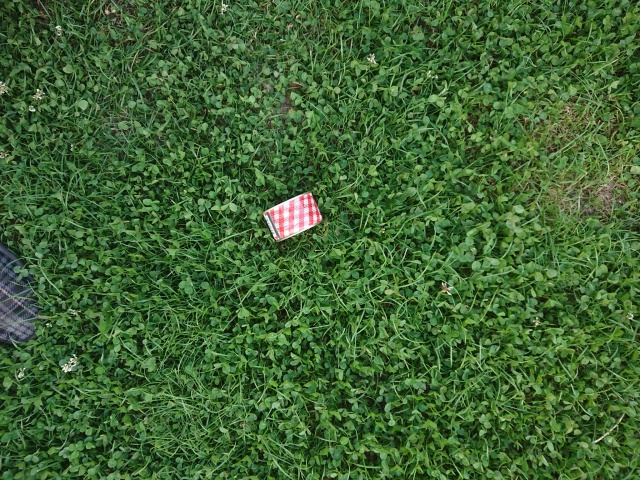Podravka Luncheon Meat 150g: (261, 189, 325, 244)
